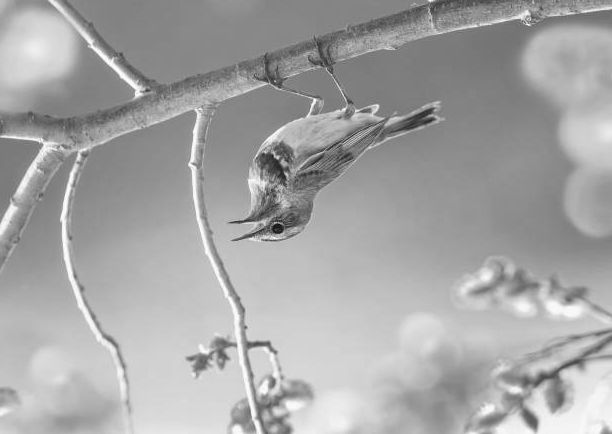Bird: (221, 32, 445, 244)
